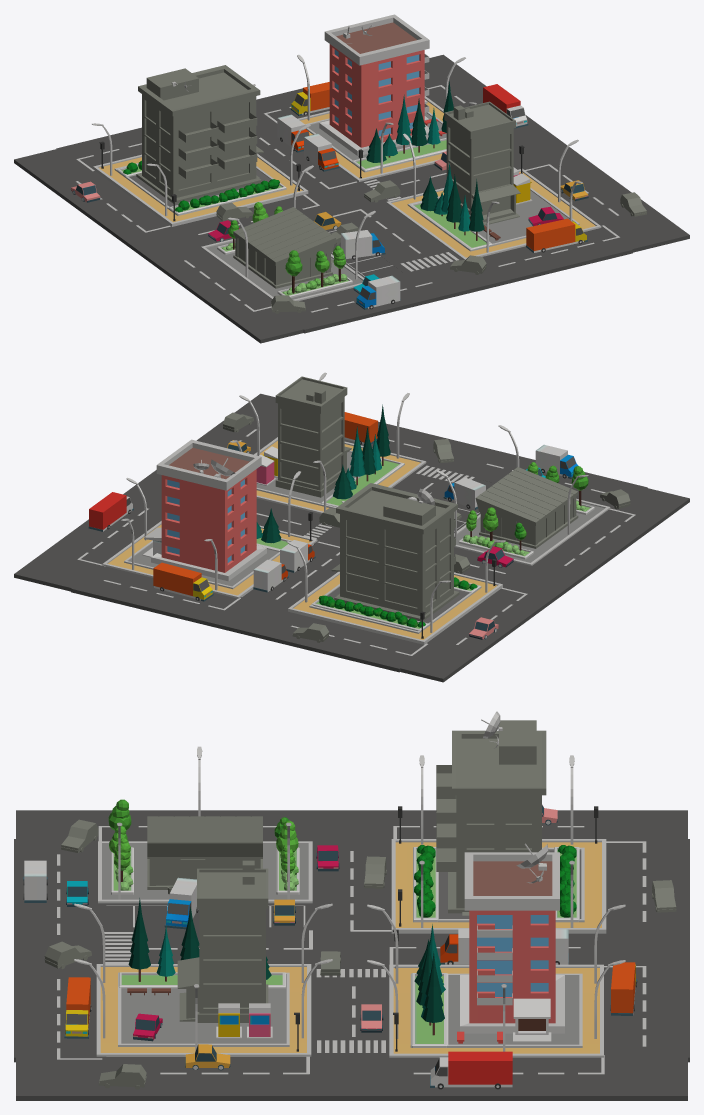
The picture shows the model from 3 angles, top to bottom: view 1: azimuth 30°, elevation 25°; view 2: azimuth 150°, elevation 25°; view 3: azimuth 270°, elevation 25°; orthographic projection. The views are drawn at different scales.
Visible parts, largest first — view 1: ROAD, House, House_1, House_2, Shop, Floor, Floor_2, ROAD.Lines.12, Floor.4_3, Floor.4_2, Car_08.5, Floor_1 (+14 smaller); view 2: ROAD, House, House_1, House_2, Shop, Floor, ROAD.Lines.12, Floor.4_3, Floor_1, Car_08.3, Floor_2, Car_08.4 (+12 smaller); view 3: ROAD, House_1, House, House_2, Shop, Floor_2, Floor_1, Floor.4_2, Floor, ROAD.Lines.12, Floor.4_3, Floor.4_1 (+29 smaller).
Boxes of the visible parts, left/top/right/bottom form: ROAD: left=14, top=54, right=689, bottom=343; House: left=136, top=65, right=263, bottom=203; House_1: left=319, top=14, right=429, bottom=155; House_2: left=444, top=101, right=520, bottom=225; Shop: left=233, top=207, right=335, bottom=288; Floor: left=93, top=153, right=308, bottom=226; Floor_2: left=386, top=168, right=601, bottom=259; ROAD.Lines.12: left=76, top=85, right=619, bottom=312; Floor.4_3: left=201, top=239, right=364, bottom=301; Floor.4_2: left=407, top=187, right=579, bottom=251; Car_08.5: left=526, top=218, right=587, bottom=252; Floor_1: left=297, top=96, right=443, bottom=181; ROAD: left=14, top=393, right=689, bottom=682; House: left=331, top=483, right=459, bottom=621; House_1: left=142, top=439, right=266, bottom=581; House_2: left=275, top=376, right=351, bottom=497; Shop: left=475, top=467, right=578, bottom=548; Floor: left=288, top=571, right=502, bottom=644; ROAD.Lines.12: left=77, top=429, right=635, bottom=655; Floor.4_3: left=454, top=498, right=610, bottom=565; Floor_1: left=102, top=521, right=317, bottom=598; Car_08.3: left=153, top=562, right=213, bottom=601; Floor_2: left=254, top=437, right=426, bottom=513; Car_08.4: left=88, top=492, right=133, bottom=531; ROAD: left=14, top=810, right=689, bottom=1100; House_1: left=460, top=852, right=564, bottom=1042; House: left=436, top=720, right=549, bottom=915; House_2: left=177, top=860, right=268, bottom=1022; Shop: left=147, top=816, right=262, bottom=889; Floor_2: left=96, top=964, right=311, bottom=1056; Floor_1: left=389, top=964, right=603, bottom=1057; Floor.4_2: left=118, top=972, right=289, bottom=1046; Floor: left=391, top=839, right=606, bottom=933; ROAD.Lines.12: left=57, top=826, right=646, bottom=1074; Floor.4_3: left=98, top=841, right=312, bottom=903; Floor.4_1: left=411, top=973, right=582, bottom=1047.
Bounding box in the file's own units: 2192 × 609 × 2192.
1 material, 1 textured.
